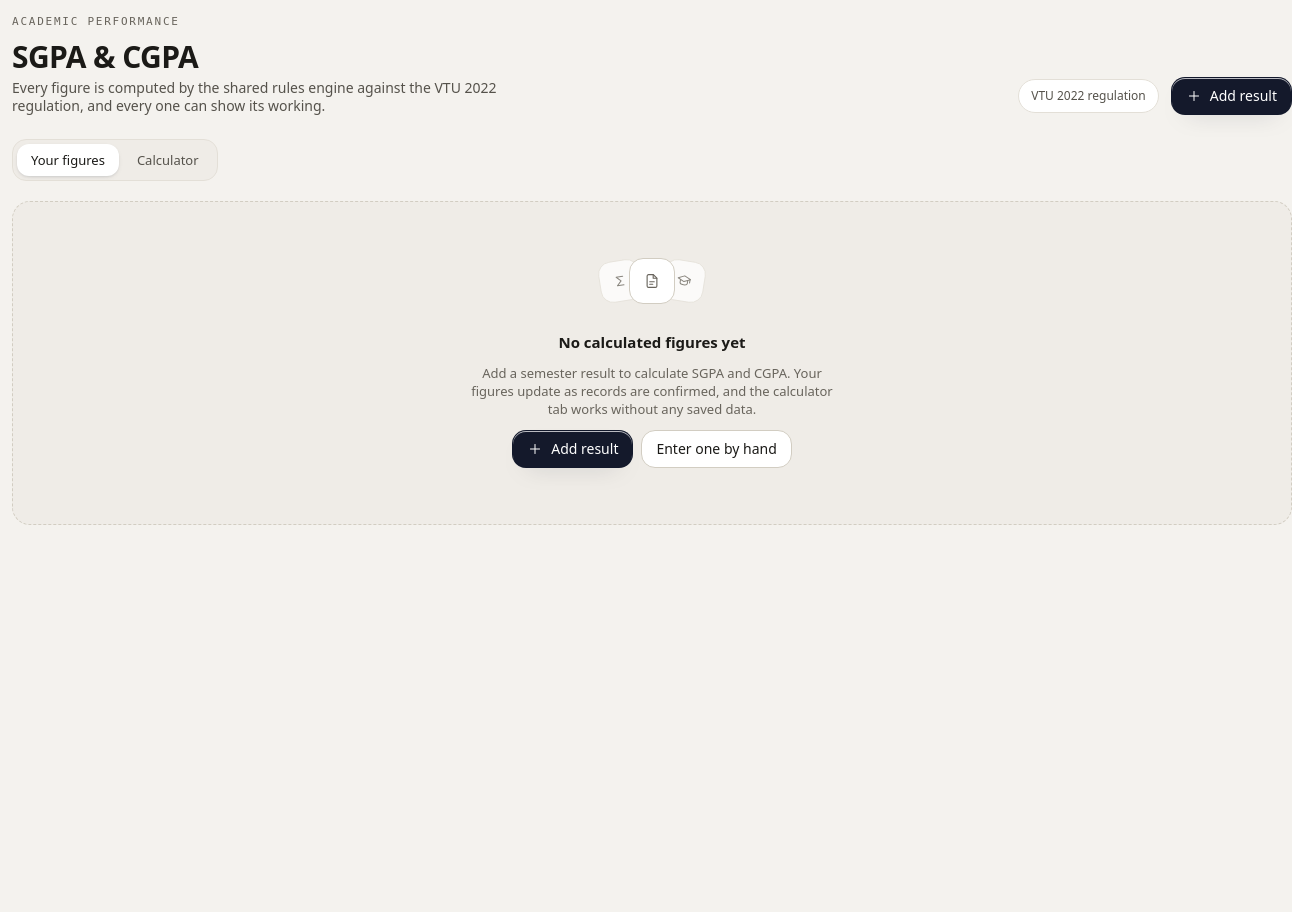
Test case: CGPA calculator › explains why its percentage differs from other calculators
The image size is (1292, 912).
Click the tab "Calculator".
click(168, 160)  # box [123,144,213,176]
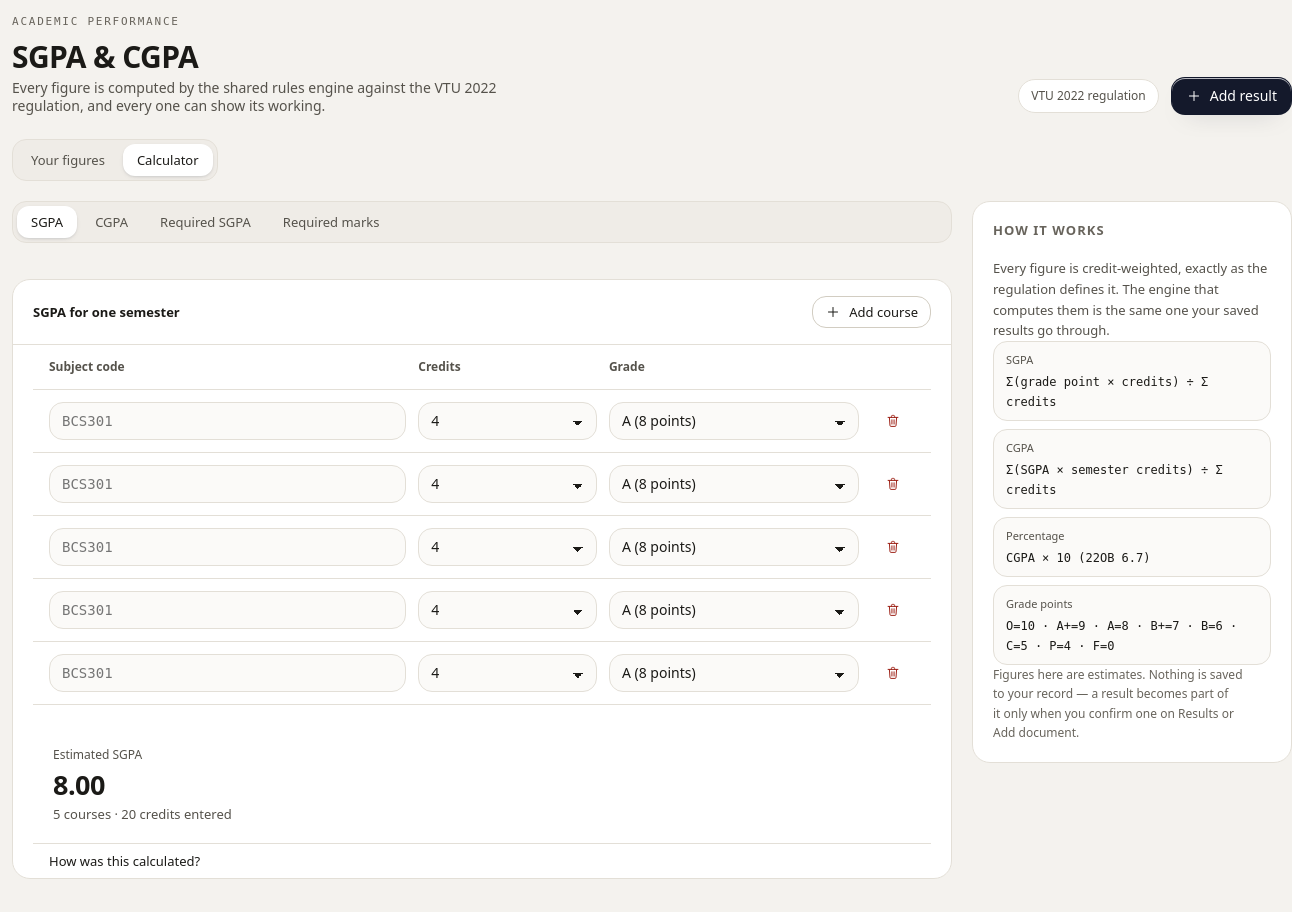
Click the tab "CGPA".
click(112, 222)  # box [81,206,142,238]
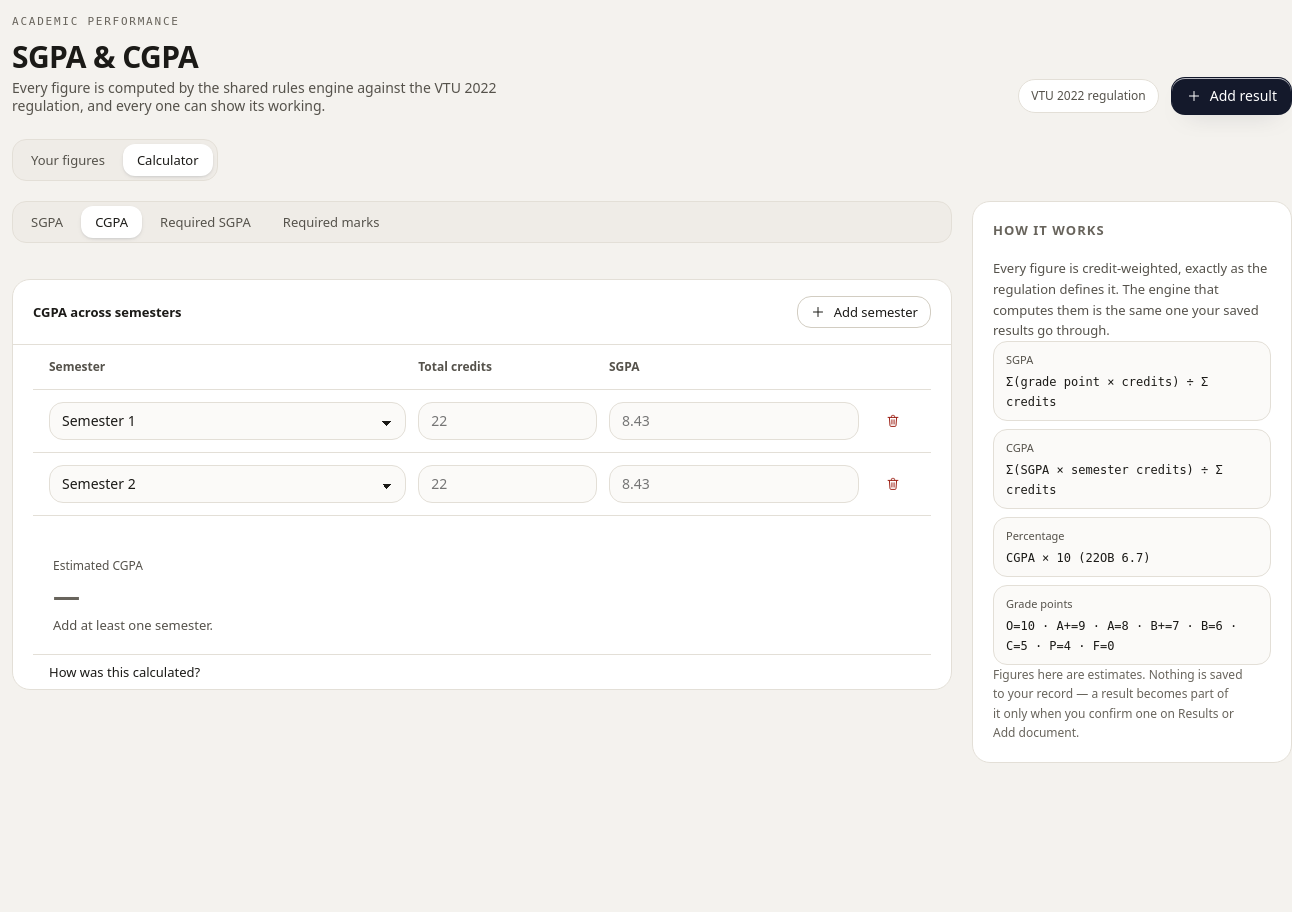
Type "20" into the field named "total credits, row 1".
click(508, 421); type("20")  # box [418,402,597,440]
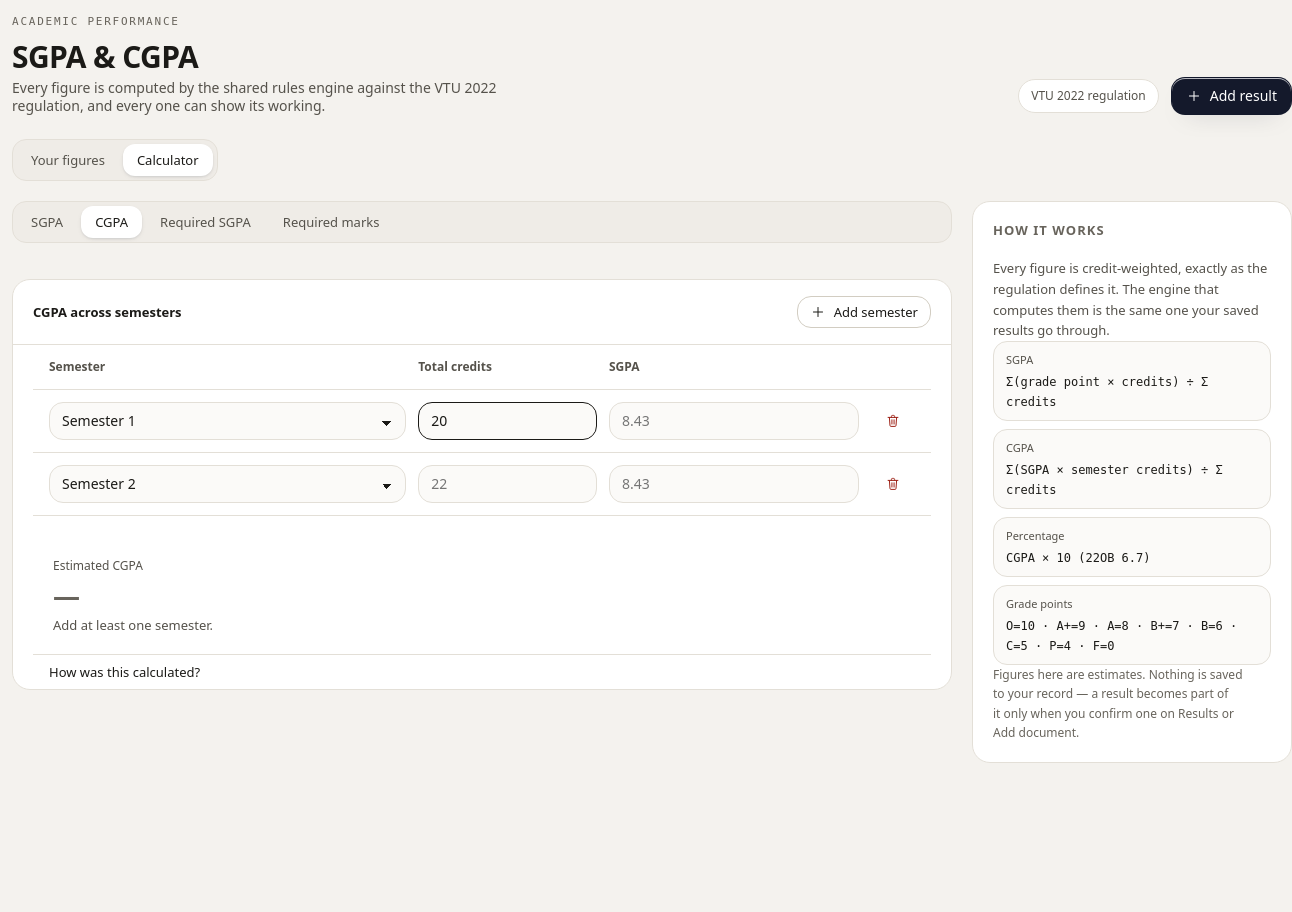
Type "8.20" into the field named "sgpa, row 1".
click(734, 421); type("8.20")  # box [609,402,859,440]
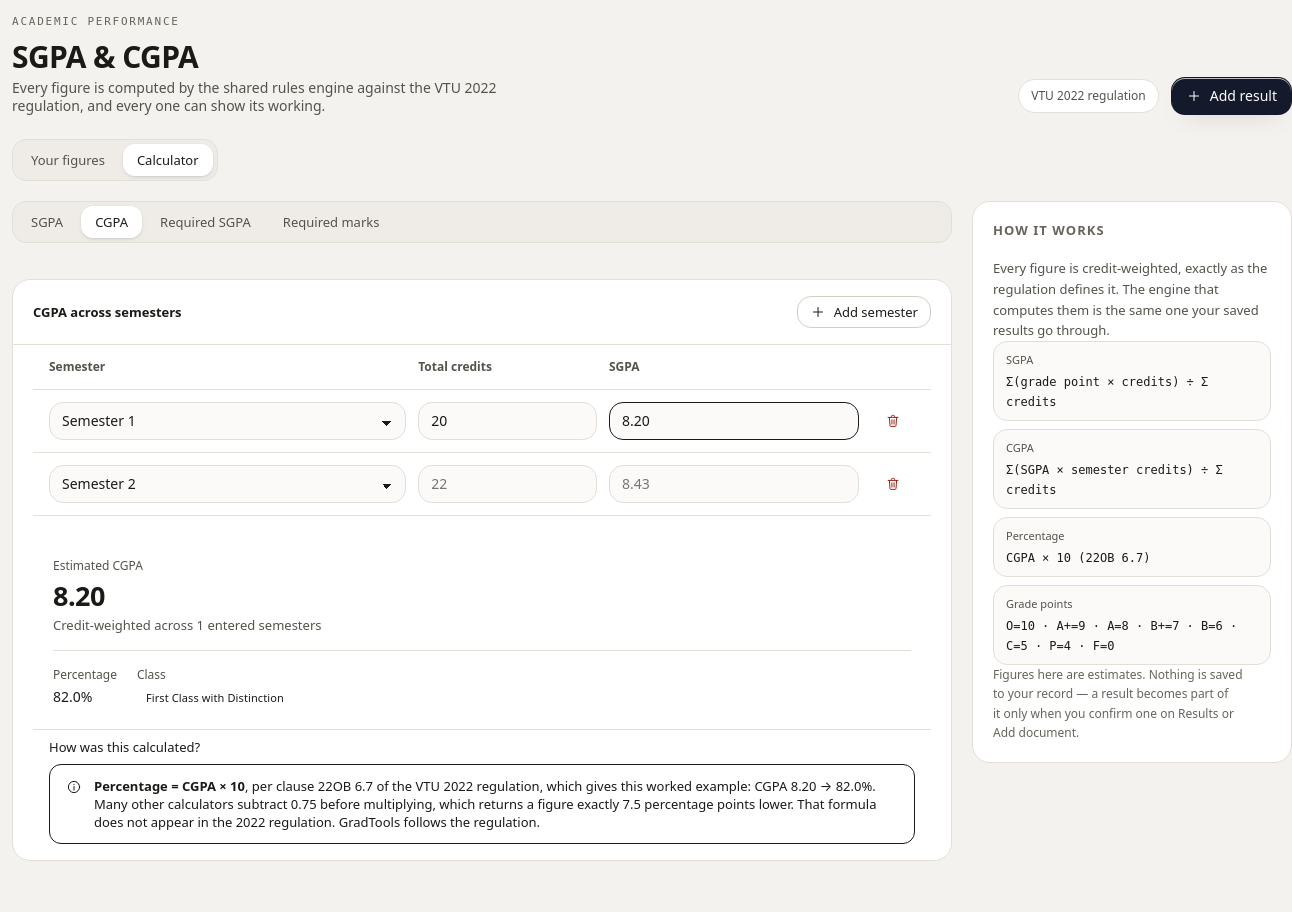
Check: the text "7.5 percentage points lower" is shown, box [94,795,876,831]
